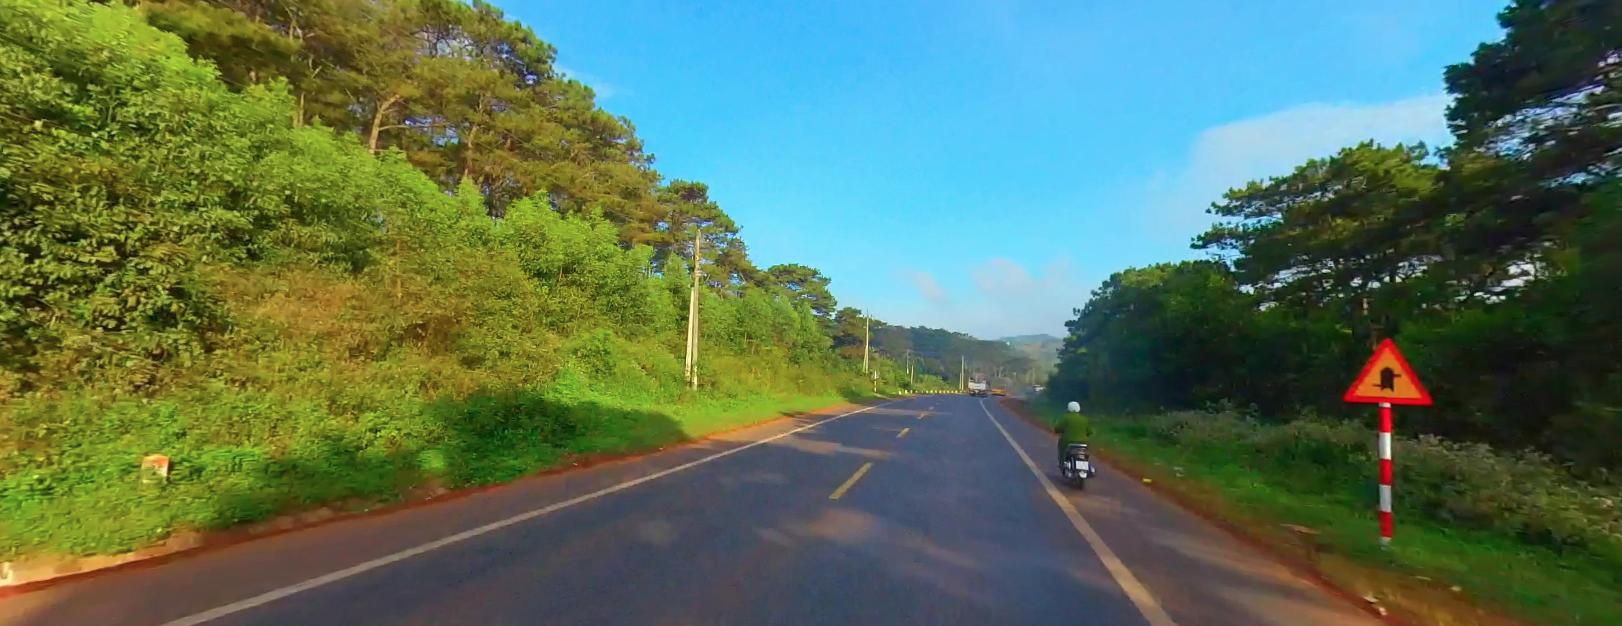Nguy hiem: (1341, 333, 1433, 405)
